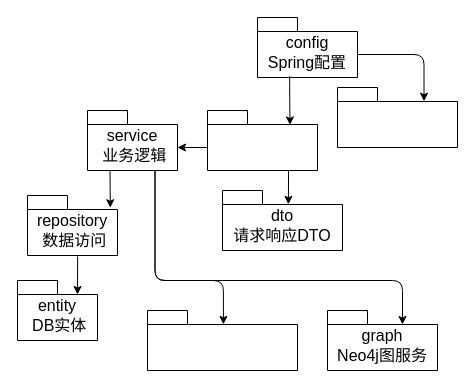
Some shapes in this 475 by 388 pixel diagram are drawn without their labels. The shapes that lost their labels are listed below. From the top down, each one's centre as x and y in pixels, then its label:
At pixel 397 117: "util JWT+Result".
At pixel 262 140: "controller REST控制器".
At pixel 222 340: "client Python服务客户端".
